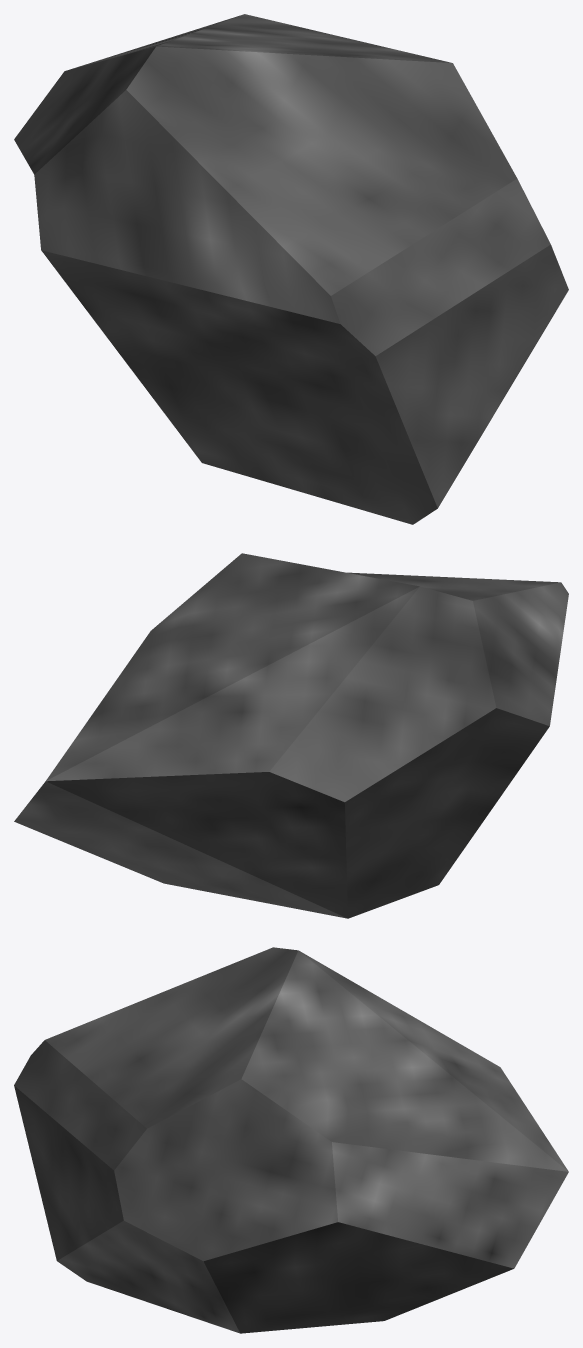
The model's file is sm rock.obj.
3 renders of one model, top to bottom at view 1: azimuth 30°, elevation 25°; view 2: azimuth 150°, elevation 25°; view 3: azimuth 270°, elevation 25°, orthographic. The views are drawn at different scales.
Visible parts, largest first — view 1: small_rock; view 2: small_rock; view 3: small_rock.
Part boxes in pixels (<box>): small_rock: <box>14,14,568,524</box>; small_rock: <box>14,553,568,918</box>; small_rock: <box>14,947,568,1333</box>.
Bounding box in the file's own units: 0.4635 × 0.3632 × 0.6267.
1 material, 1 textured.
